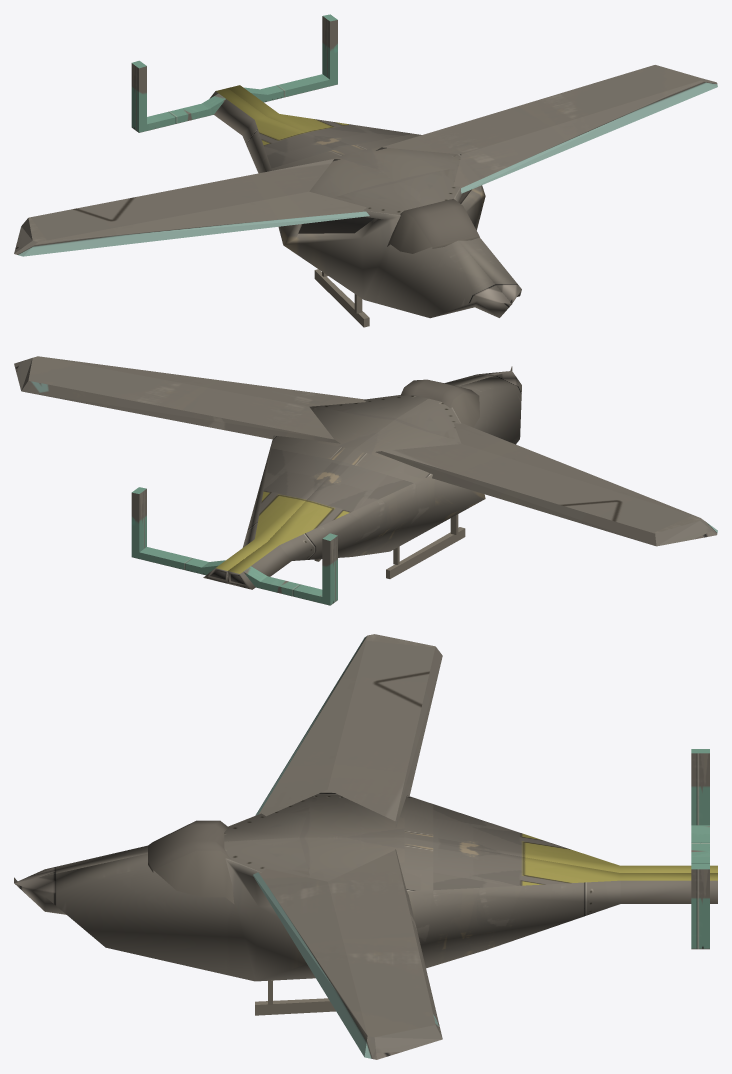
Rendered from medical_support.dae.
The picture shows the model from 3 angles, top to bottom: view 1: azimuth 30°, elevation 25°; view 2: azimuth 150°, elevation 25°; view 3: azimuth 270°, elevation 25°; orthographic projection. The views are drawn at different scales.
Parts seen in each view (by area): view 1: hospital_aerosuport_hermes; view 2: hospital_aerosuport_hermes; view 3: hospital_aerosuport_hermes.
Boxes of the visible parts, <box> form: hospital_aerosuport_hermes: <box>14,14,717,327</box>; hospital_aerosuport_hermes: <box>14,356,717,605</box>; hospital_aerosuport_hermes: <box>14,634,717,1059</box>.
Bounding box in the file's own units: 16.38 × 11.47 × 3.17.
